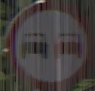No overtake: (10, 12, 85, 72)
